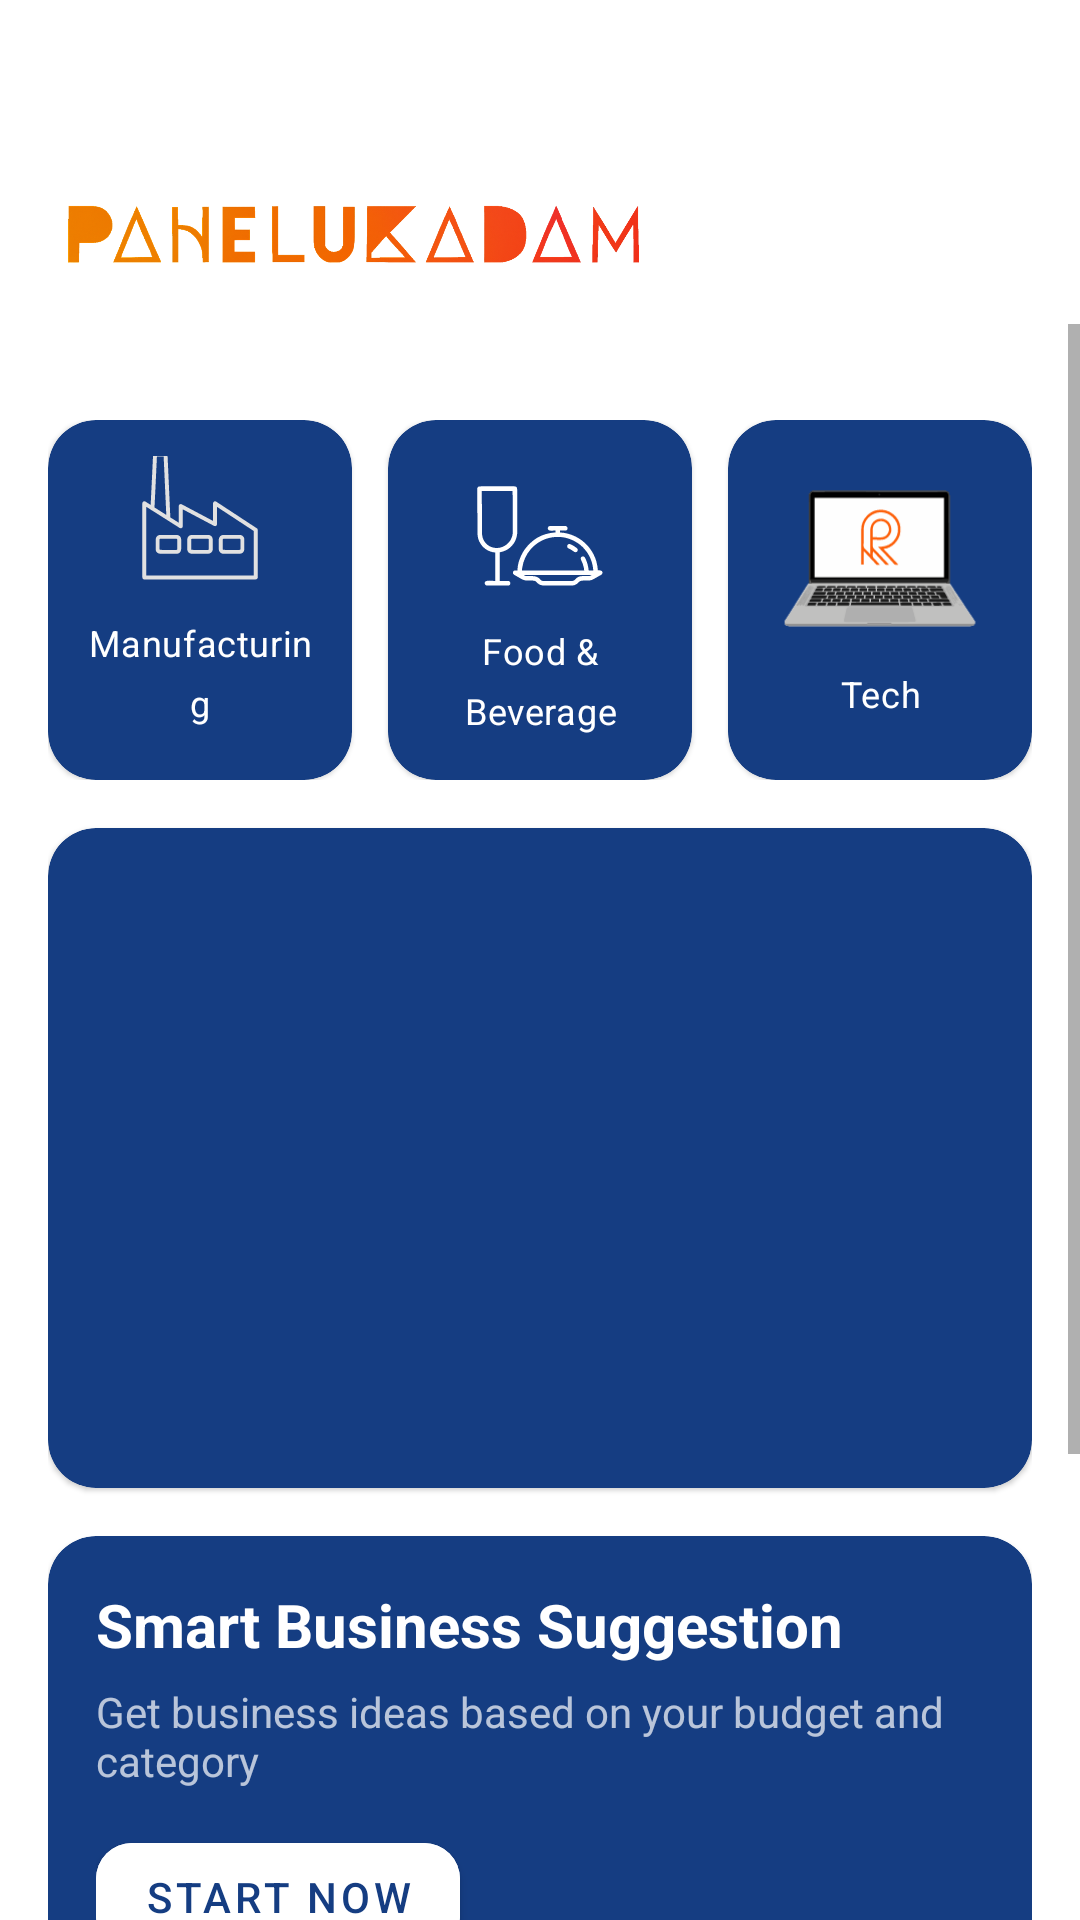

Locate icon controls on the screen. Image size 1080w x 1920h, boxes as [x1,y1,x2,y2].
factory: [142,456,258,580]
